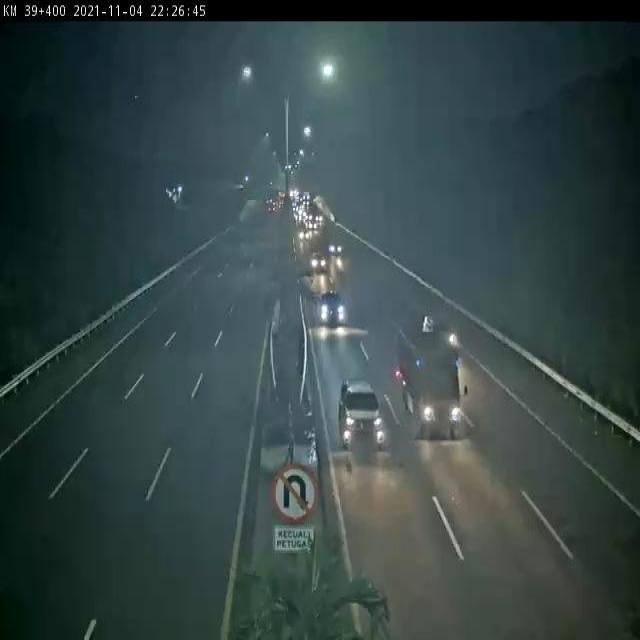car: (338, 379, 386, 453), (319, 291, 346, 328)
truck-m-: (395, 307, 477, 444)
